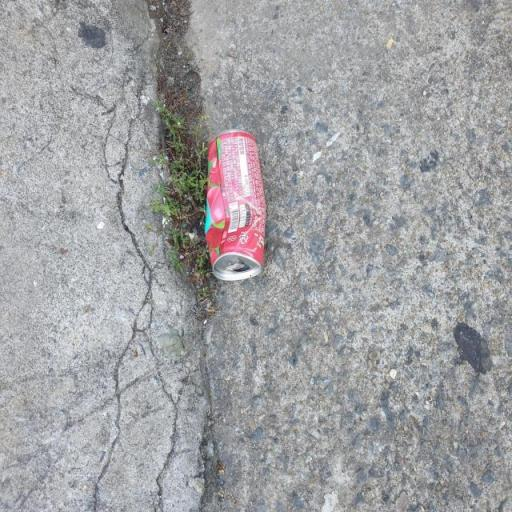metal: (170, 108, 292, 302)
